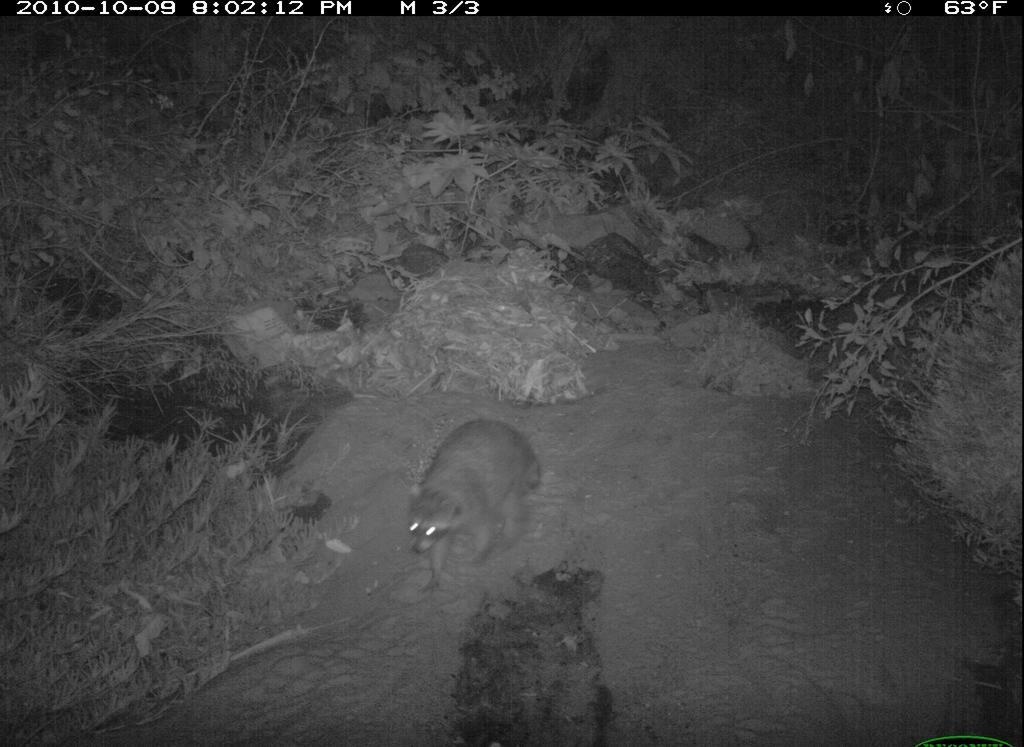raccoon: (393, 409, 553, 601)
